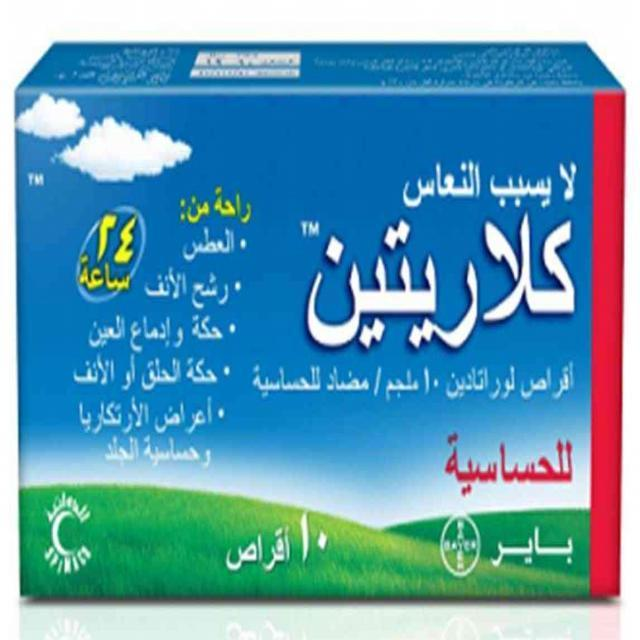drug-name: (278, 214, 589, 364)
